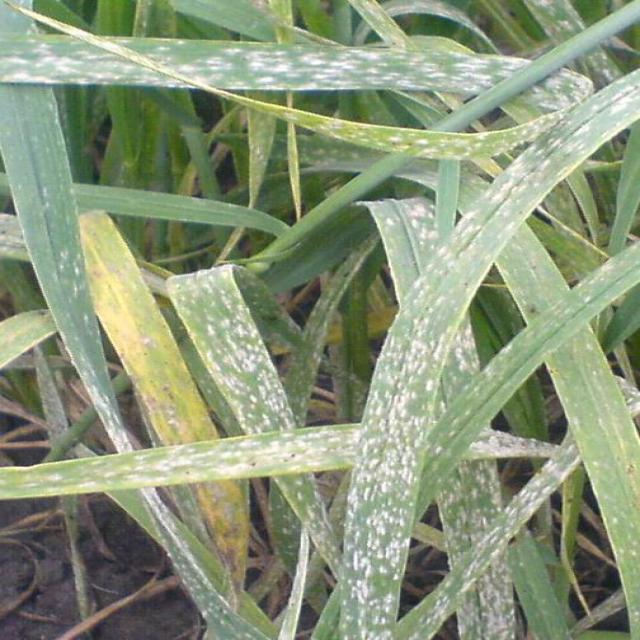wheat-powdery-mildew: (309, 68, 640, 640), (0, 29, 595, 164), (395, 450, 580, 640), (0, 424, 363, 501), (165, 265, 296, 435), (355, 197, 435, 306), (441, 461, 502, 568), (457, 558, 529, 640), (275, 475, 333, 561), (442, 326, 480, 406), (469, 432, 559, 459)
